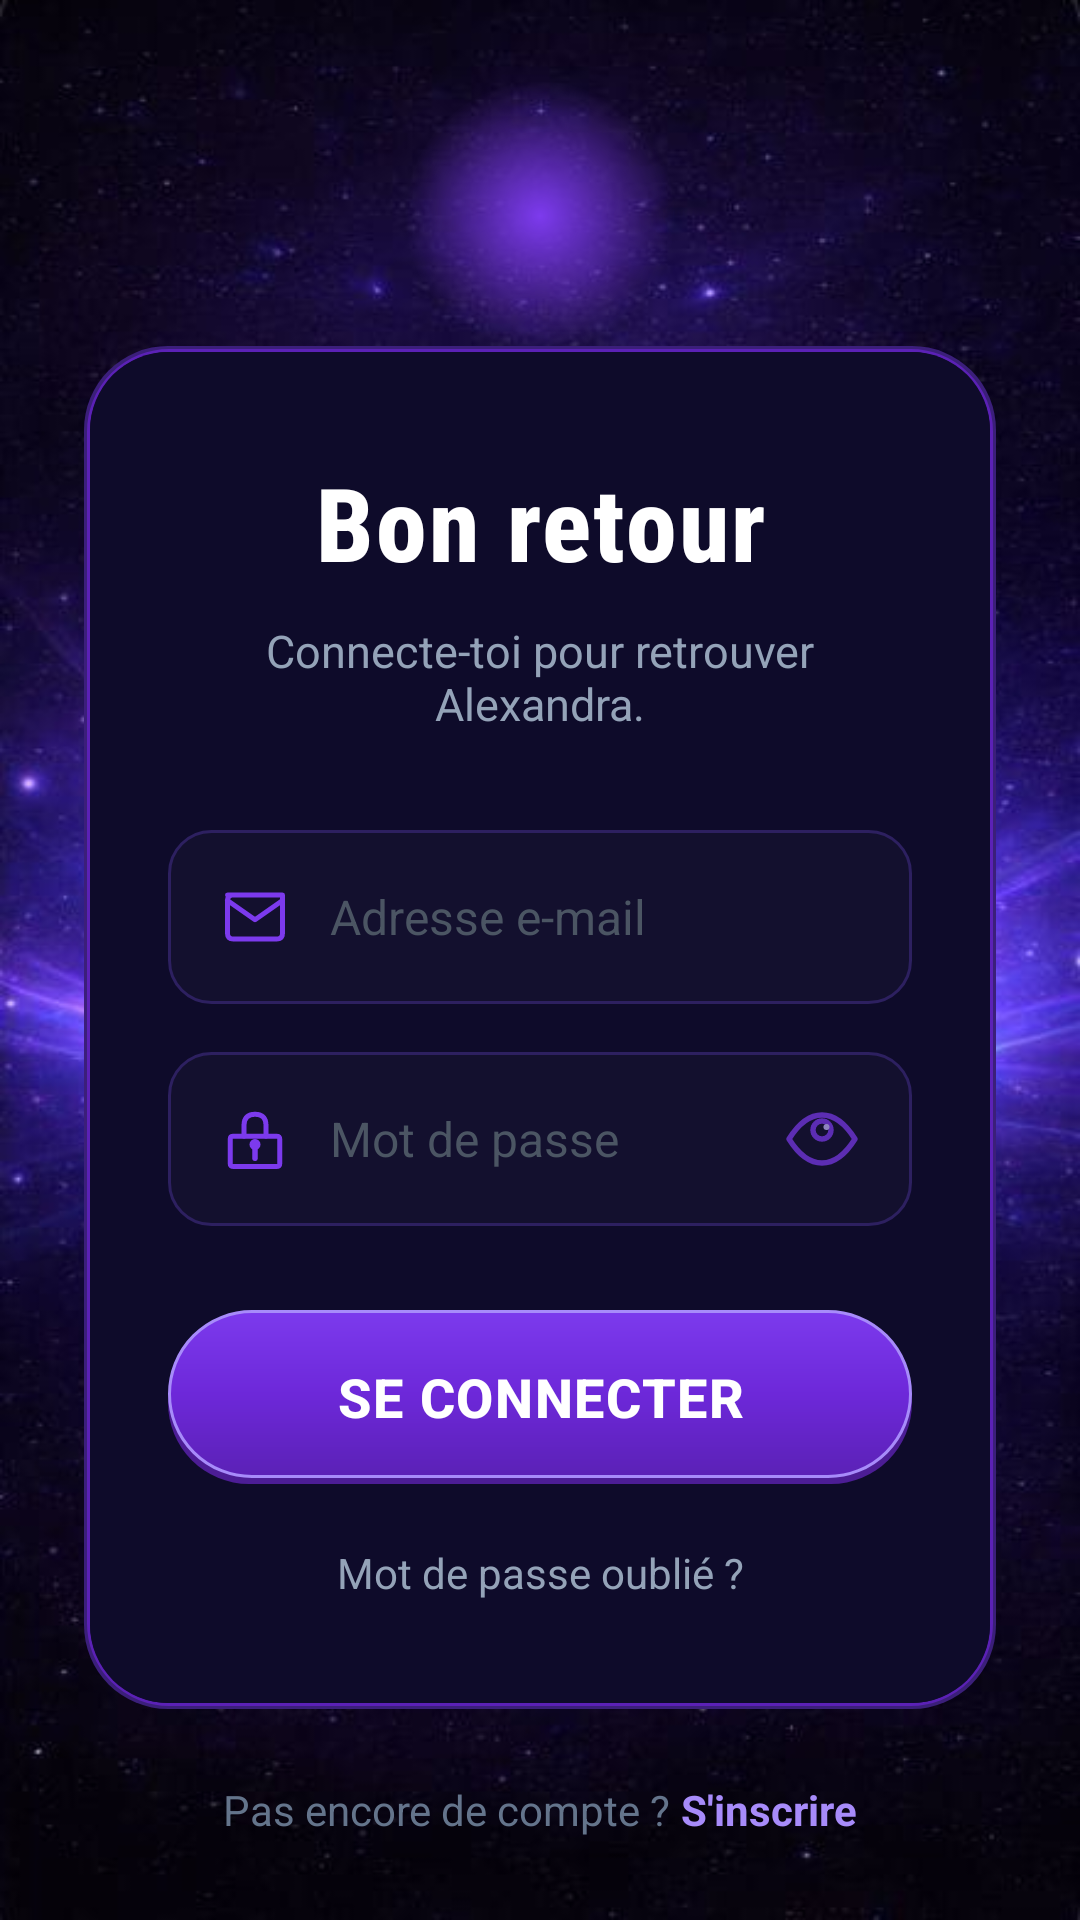

Icons on this 1080px x 1920px Android screen, each with the point to tap as [x,y]:
email field: [255,917]
eye field: [822,1139]
lock field: [255,1140]
